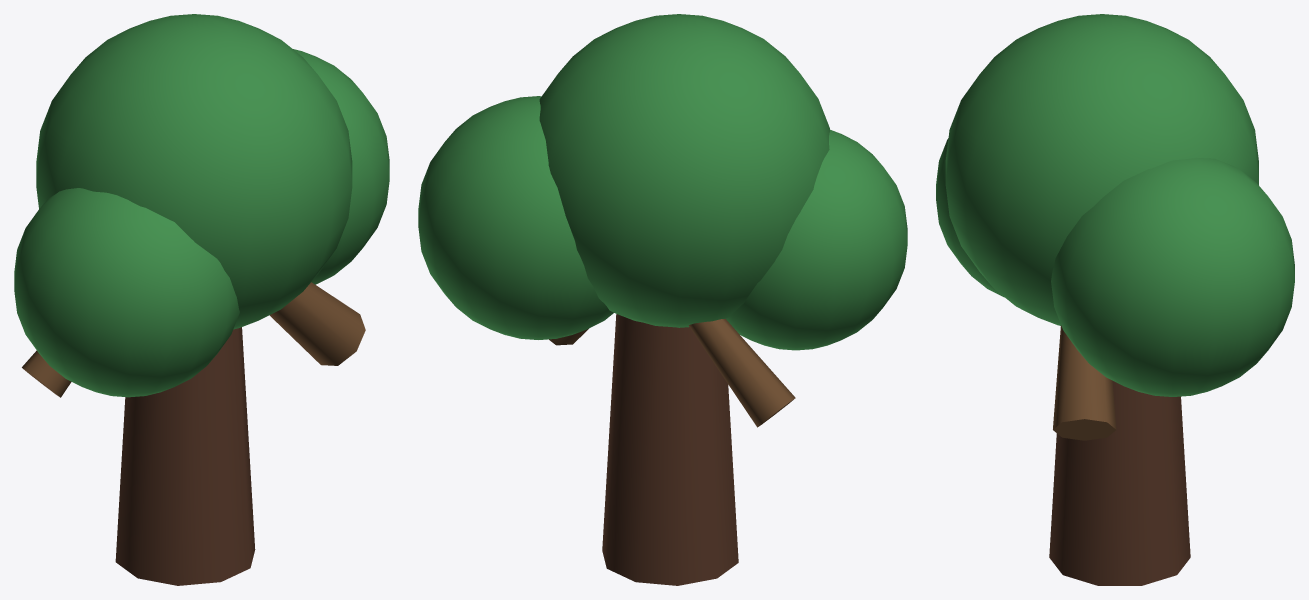
Rendered from tree.glb.
3 renders of one model, left to right at view 1: azimuth 30°, elevation 25°; view 2: azimuth 150°, elevation 25°; view 3: azimuth 270°, elevation 25°, orthographic. The views are drawn at different scales.
Bounding box in the file's own units: 2.65 × 3.3 × 2.03.
